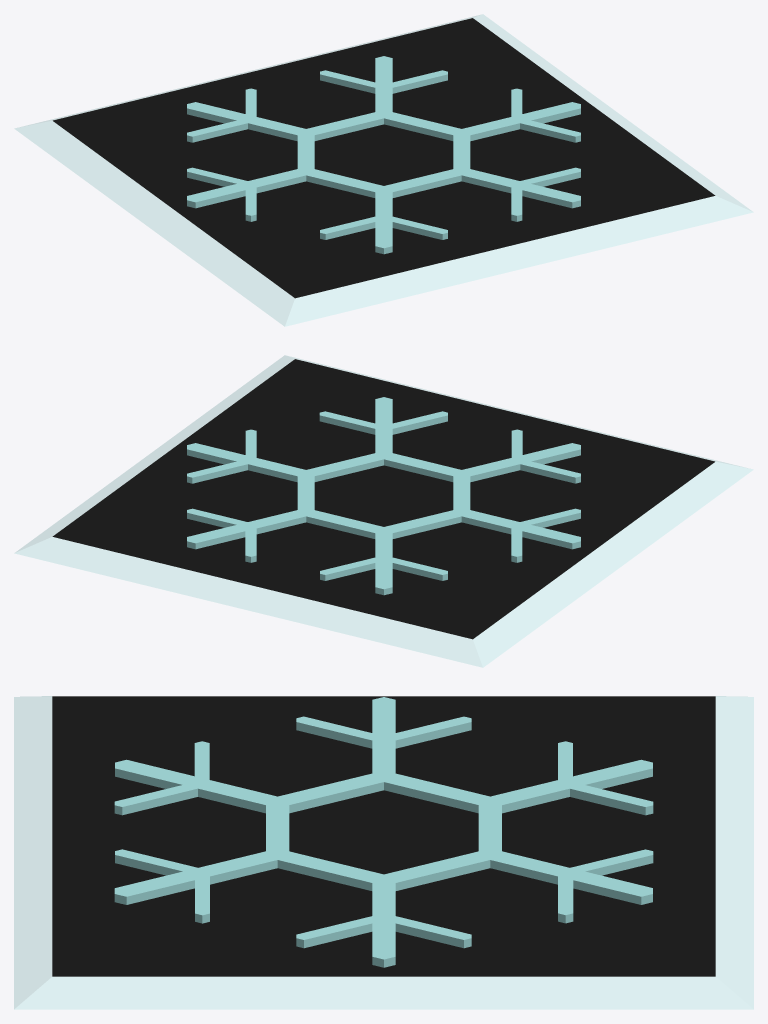
The model's file is freeze trap.fbx.
3 views of the same model, one above another, from view 1: azimuth 30°, elevation 25°; view 2: azimuth 150°, elevation 25°; view 3: azimuth 270°, elevation 25° (orthographic). The views are drawn at different scales.
Parts seen in each view (by area): view 1: pPlane2, pPrism1; view 2: pPlane2, pPrism1; view 3: pPlane2, pPrism1.
Boxes of the visible parts, x1,y1,x2,y2 form: pPlane2: [14, 14, 753, 326]; pPrism1: [187, 56, 580, 254]; pPlane2: [14, 355, 753, 667]; pPrism1: [187, 397, 580, 595]; pPlane2: [14, 696, 753, 1009]; pPrism1: [114, 697, 653, 967].
Bounding box in the file's own units: 1.86 × 0.0779 × 1.86.
